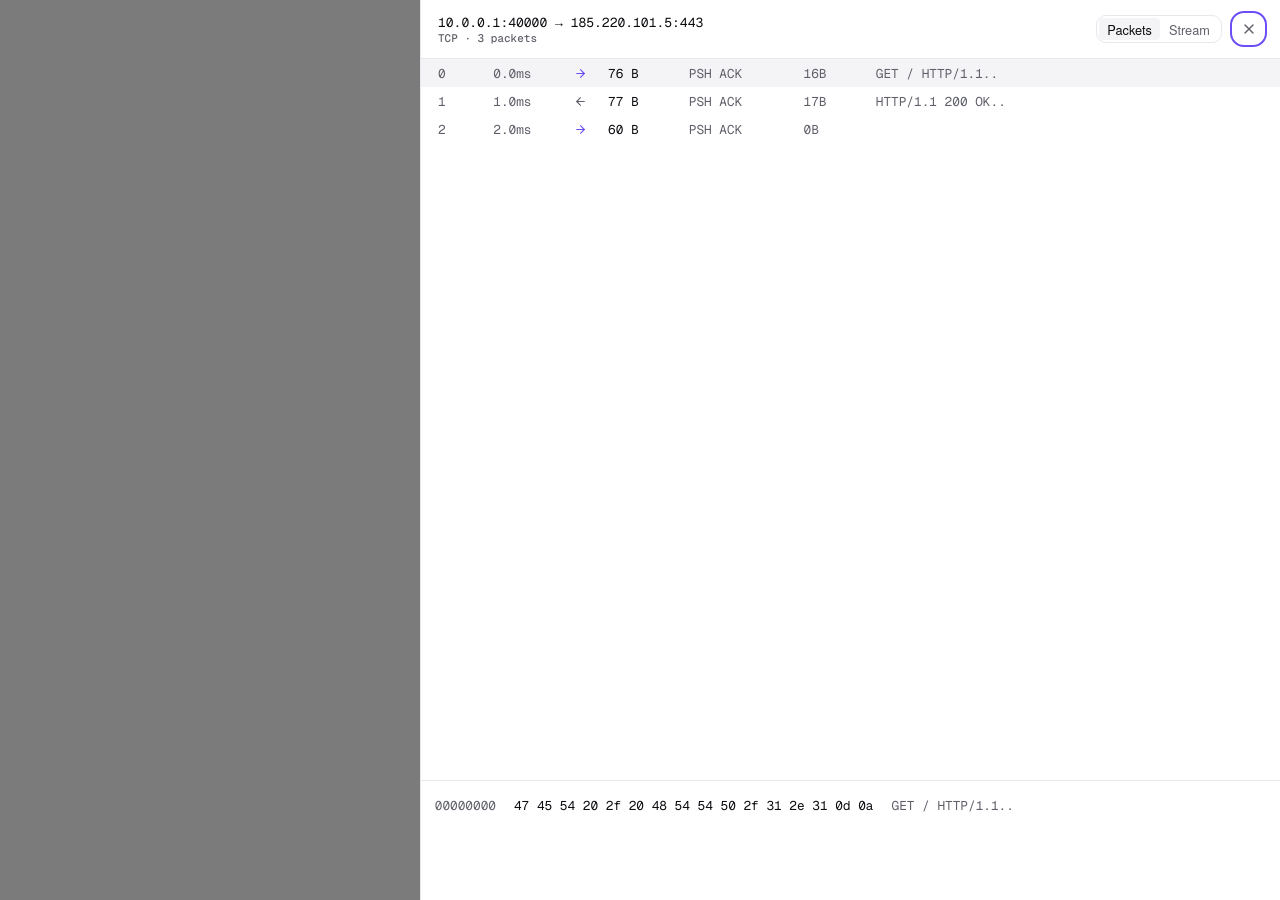
Test: PacketInspector › Stream view reassembles the conversation into client/server segments
This screenshot has width=1280, height=900.
Click the button "stream": {"x": 1189, "y": 29} [1160,18,1218,40]
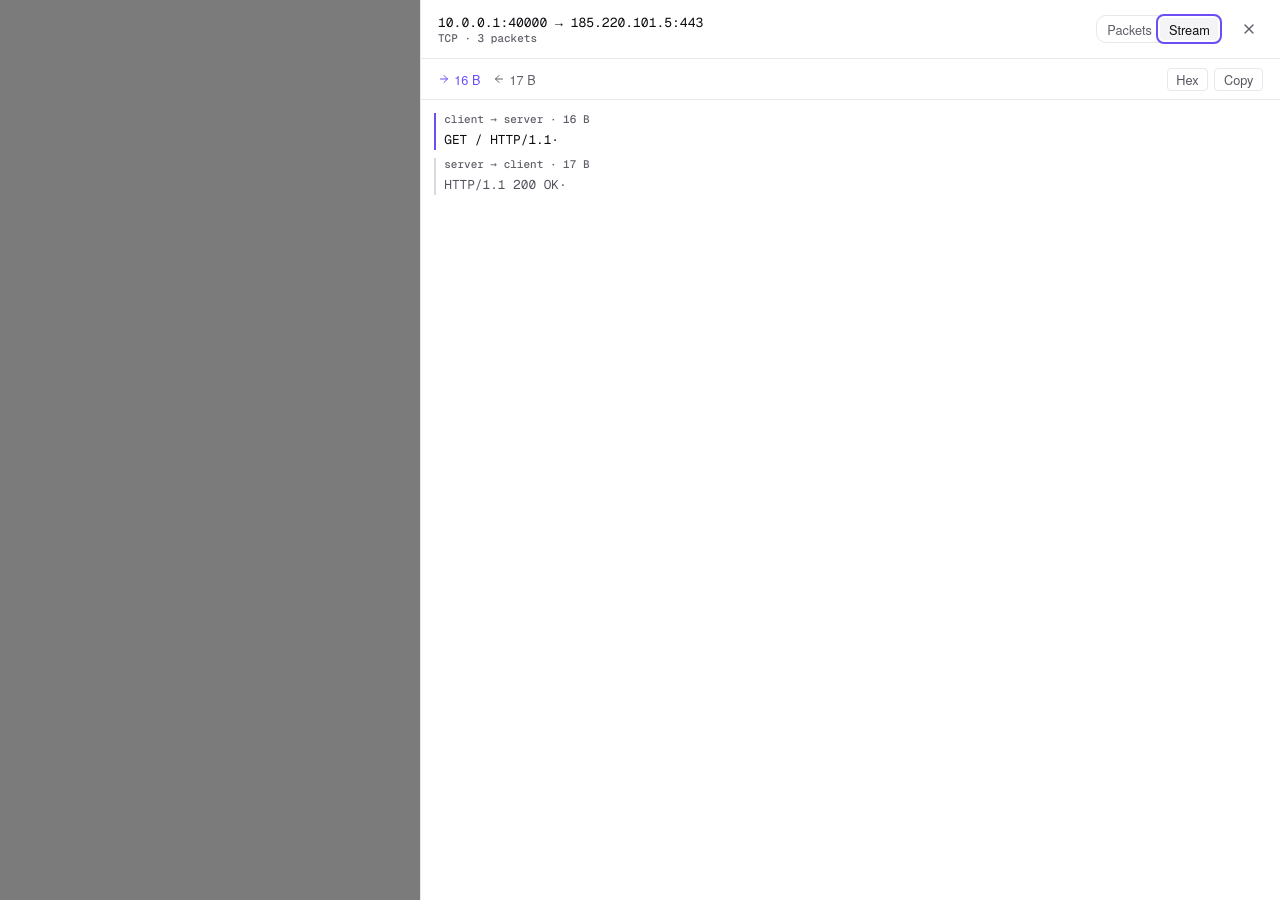
Expected: the text "client → server · 16 B" is shown, [444,112,590,126]
Expected: the text "server → client · 17 B" is shown, [444,157,590,171]
Expected: the text "GET / HTTP/1.1·" is shown, [444,130,559,148]
